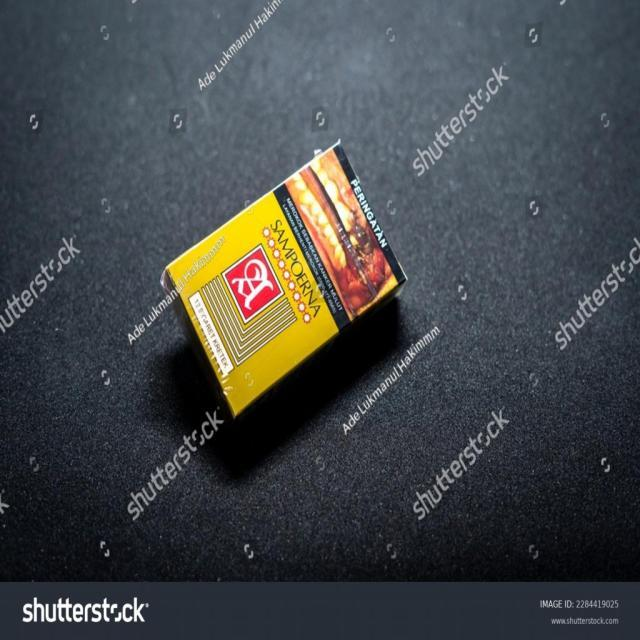smoking: (133, 140, 435, 422)
